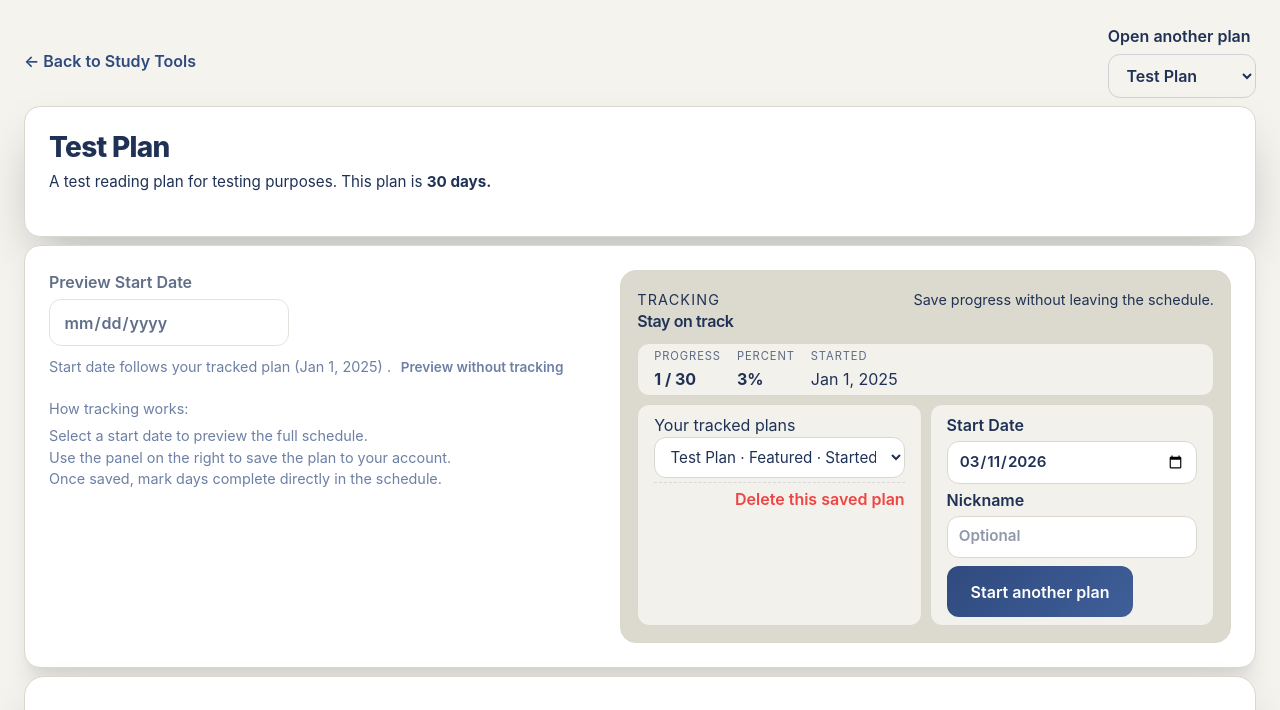
Scenario: ReadingPlanView.vue › Authenticated Tracking › handles delete plan failure
Click the button with class "link-button--danger". click: (820, 499)
box: [735, 487, 905, 511]
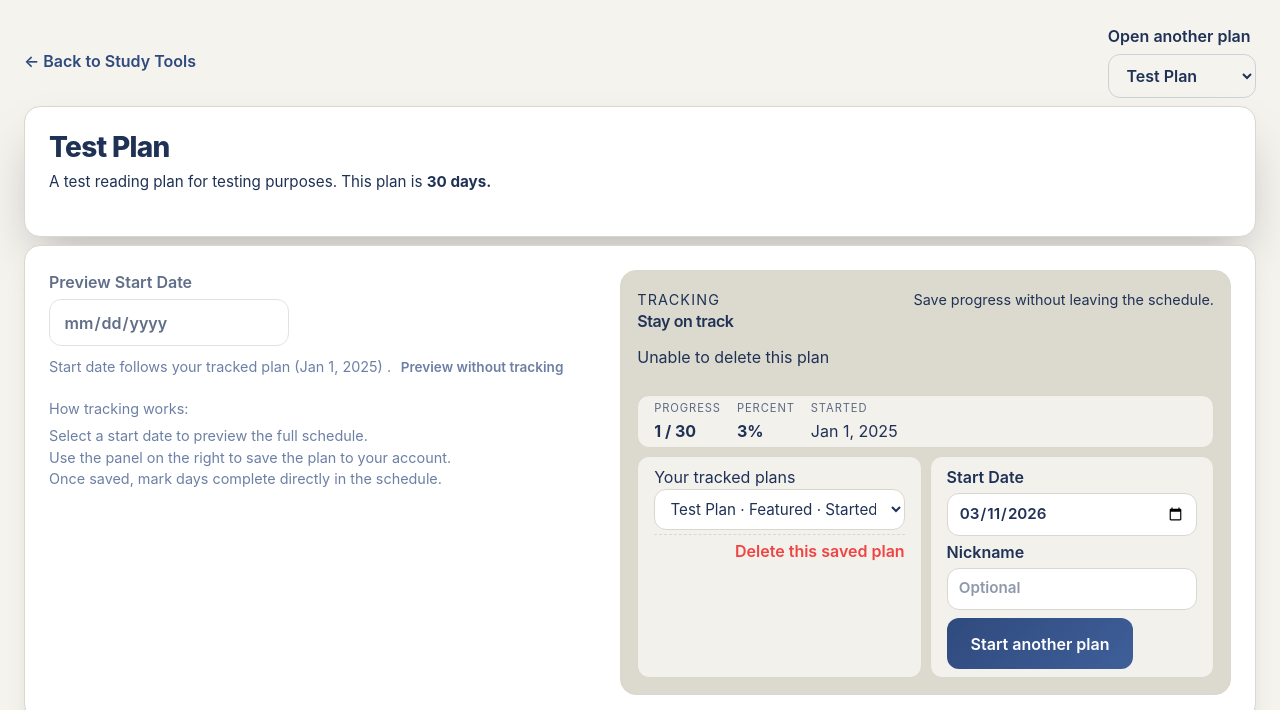
Expected: the text "Unable to delete this plan" is shown, [637, 347, 829, 367]
